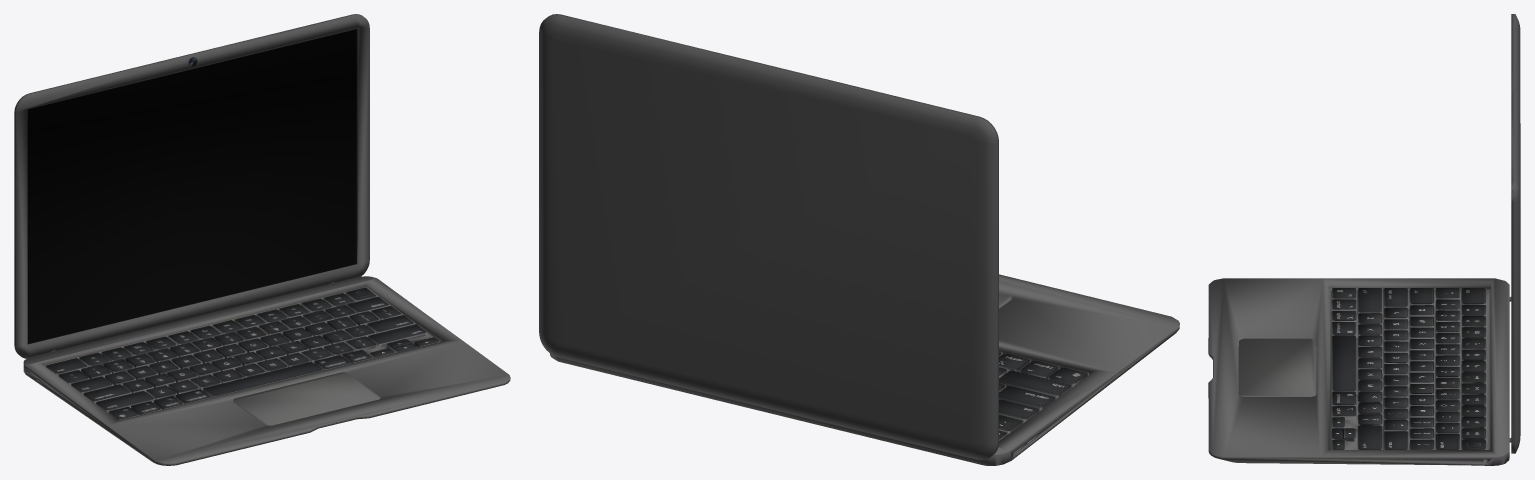
Rendered from laptop.glb.
3 renders of one model, left to right at view 1: azimuth 30°, elevation 25°; view 2: azimuth 150°, elevation 25°; view 3: azimuth 270°, elevation 25°, orthographic. The views are drawn at different scales.
Parts seen in each view (by area): view 1: Cube.003; view 2: Cube.003; view 3: Cube.003.
Part boxes in pixels (x1,y1,x2,y2): Cube.003: (14,14,510,465); Cube.003: (539,14,1179,465); Cube.003: (1208,14,1520,465).
Size of the model in its own units: 1.07 by 0.7807 by 0.7855.
3 materials, 2 textured.
